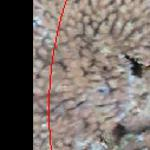alive: (38, 3, 147, 148)
